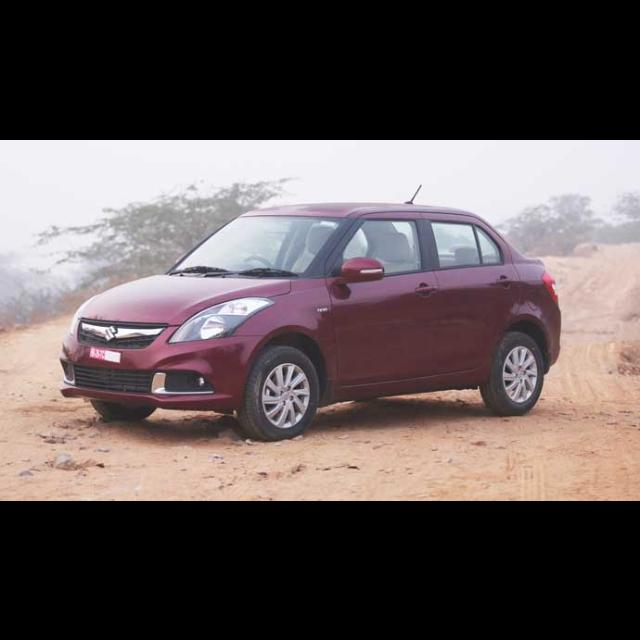number-plate: (87, 346, 119, 363)
vehicles: (59, 189, 561, 444)
